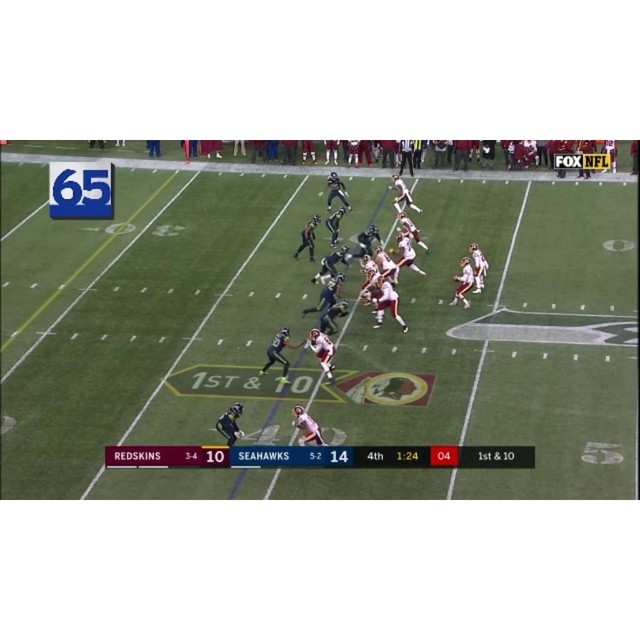american-football-player: (260, 328, 304, 380), (299, 272, 347, 318), (372, 277, 409, 332), (306, 329, 336, 384), (394, 231, 427, 279), (390, 172, 424, 216), (311, 245, 351, 282), (291, 405, 325, 446), (292, 214, 321, 262), (215, 401, 245, 446), (348, 224, 381, 264), (398, 212, 430, 253), (449, 257, 474, 309), (319, 300, 351, 336), (323, 171, 351, 212), (468, 242, 489, 294), (326, 206, 350, 247), (373, 245, 399, 282)
referee: (398, 140, 415, 176)
